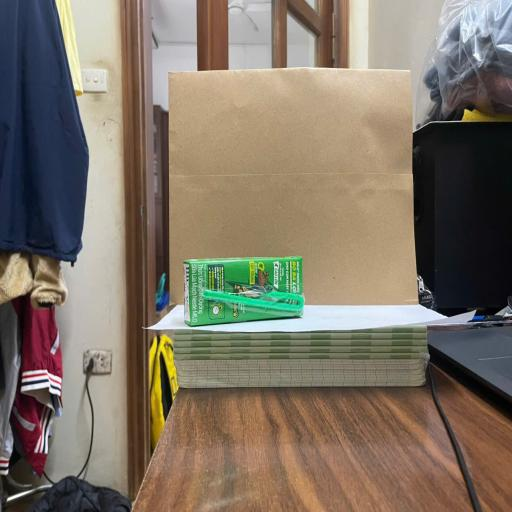milo: (184, 256, 304, 326)
